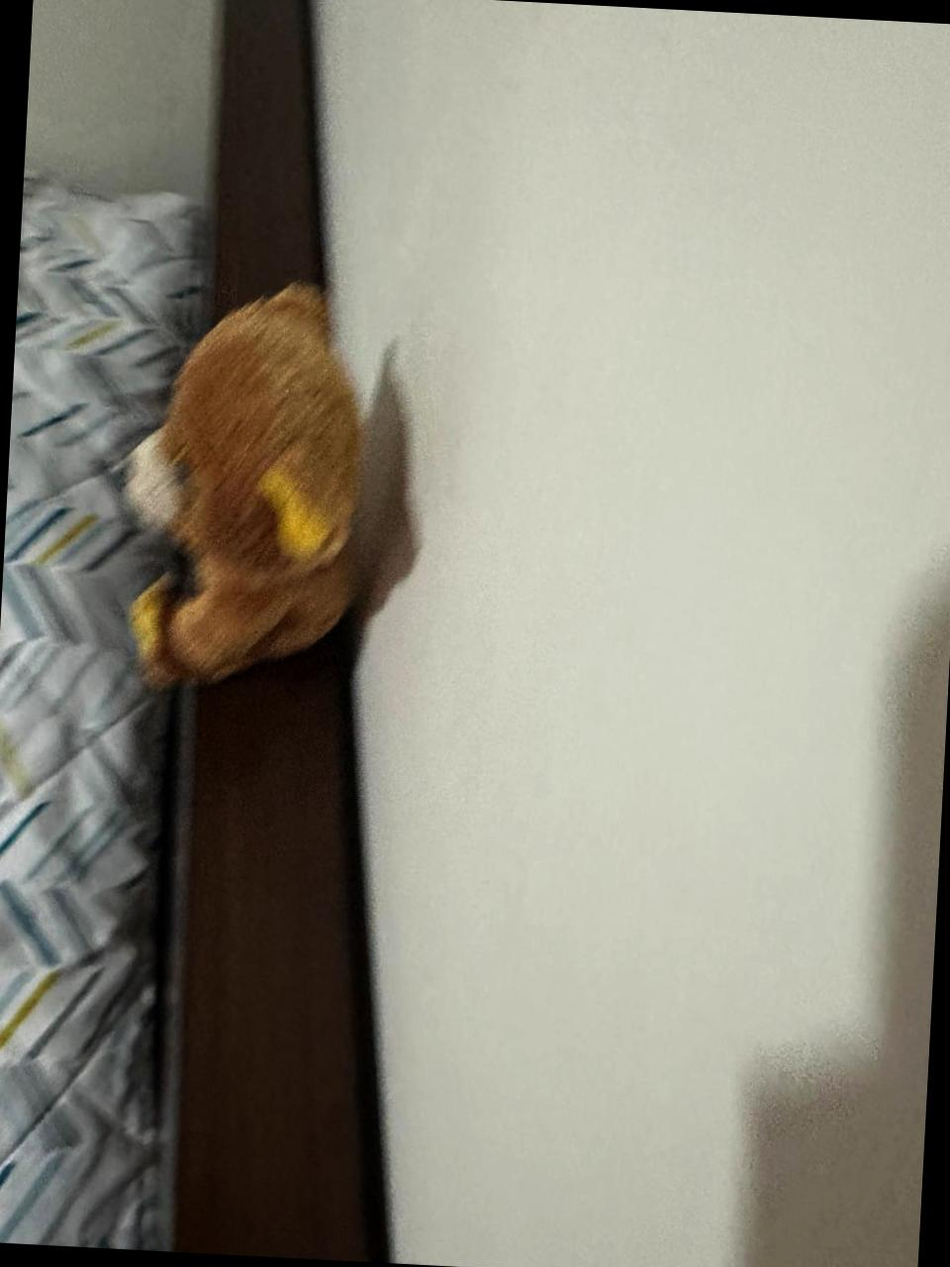peluche_sebastian: (103, 271, 377, 701)
